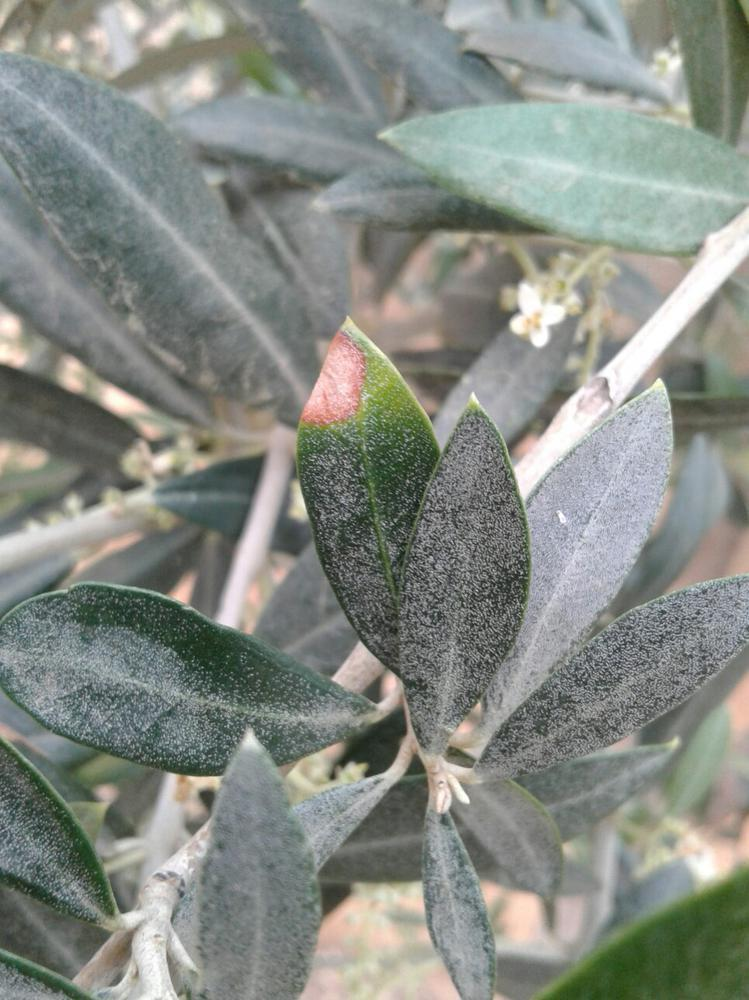Anthracnose: (295, 324, 374, 438)
